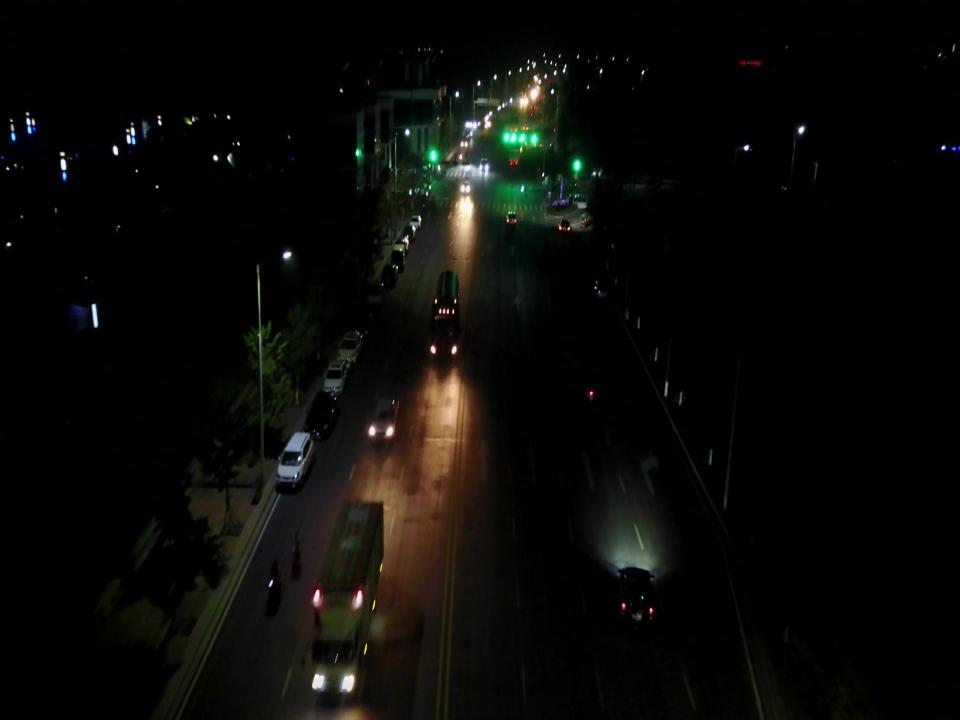car: (614, 559, 658, 629), (276, 428, 314, 491), (308, 391, 336, 440), (370, 396, 400, 441), (337, 333, 361, 365), (325, 359, 347, 391), (380, 264, 398, 290), (395, 233, 409, 252), (506, 209, 518, 229), (402, 224, 416, 240), (459, 180, 471, 197), (558, 218, 571, 233), (480, 154, 488, 175), (410, 215, 422, 228)
truck: (314, 496, 386, 694), (431, 268, 459, 357), (392, 244, 406, 273)
